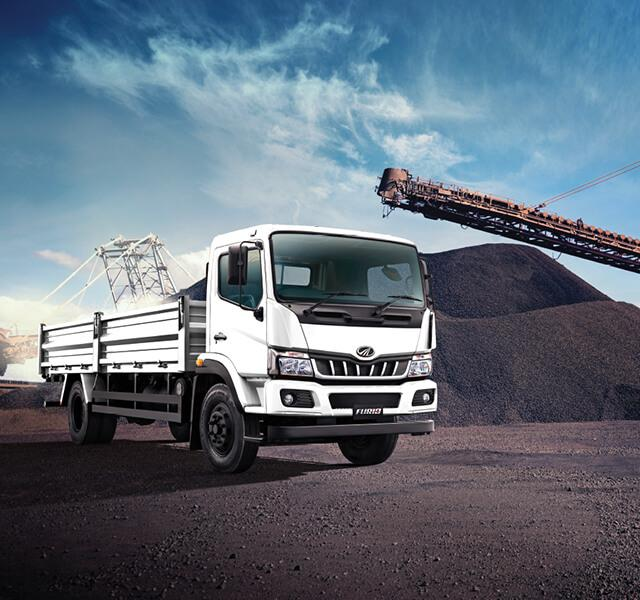truck: (39, 222, 437, 472)
